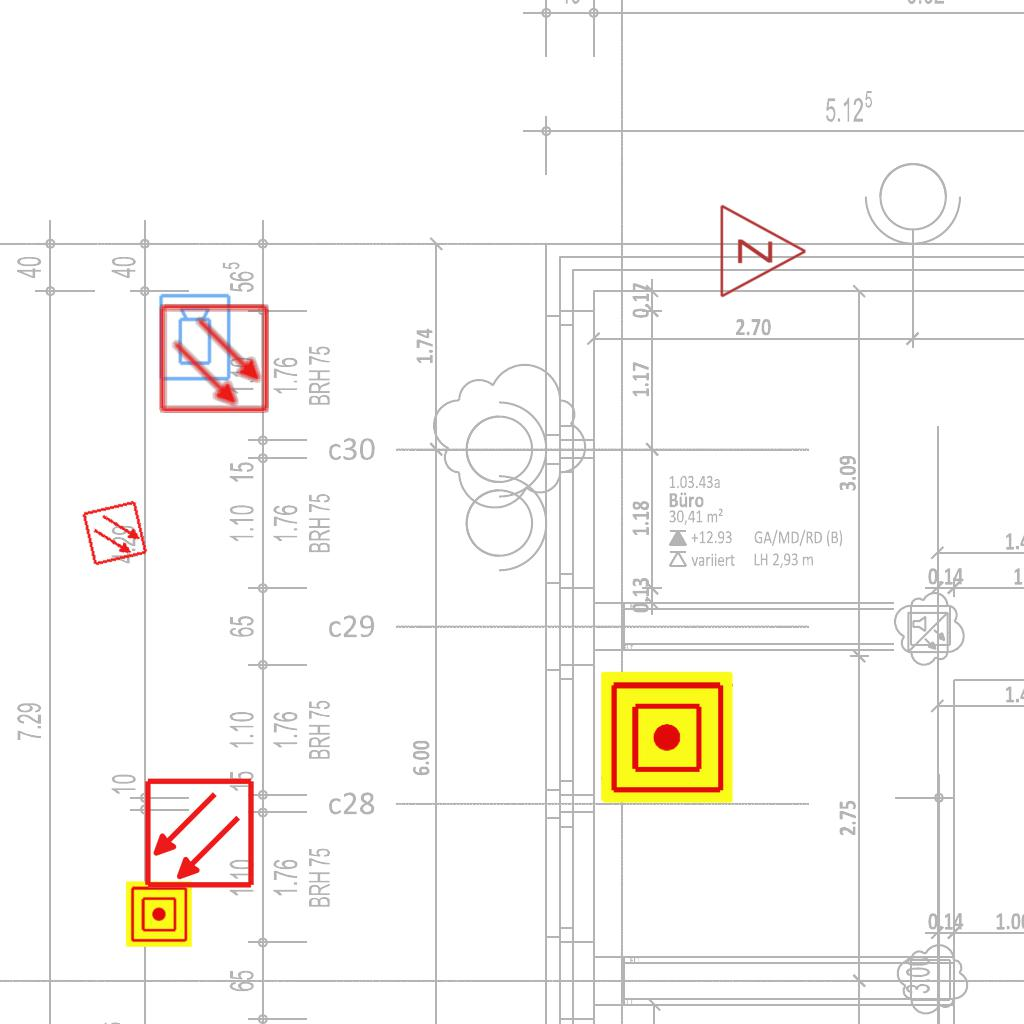KFO_Kamera_mit_Festobjektiv: (157, 292, 234, 383)
NAM-Nichtautomatischer_Melder: (601, 671, 733, 803), (126, 881, 192, 947)
RMO_Rauchmelder_optischer: (143, 777, 256, 890), (158, 302, 271, 415), (81, 499, 149, 567)
Zimmersignalleuchte: (713, 201, 813, 299)
